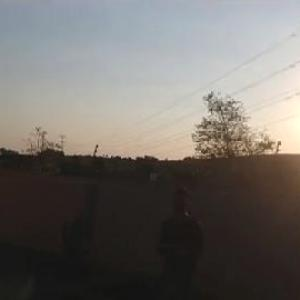follow: (144, 184, 206, 299)
